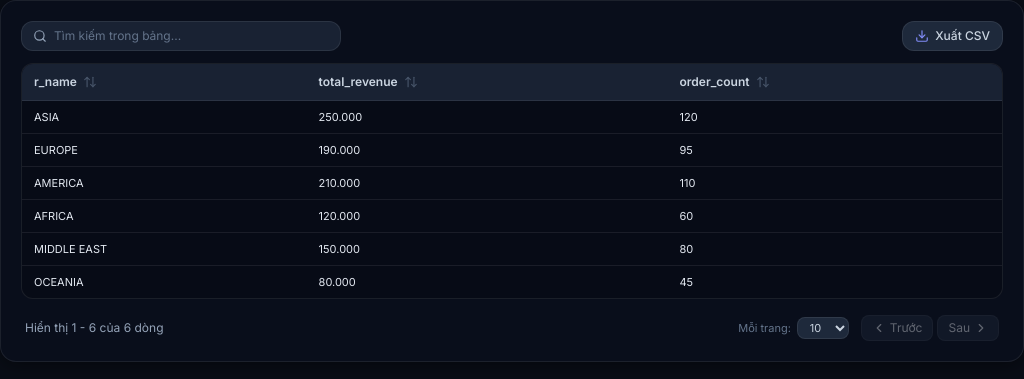
it: Component 4.3: DataTable › 2. Sắp xếp cột khi click vào tiêu đề cột (Sort asc / desc)
The image size is (1024, 379).
Click the button with aria-label "Sắp xếp cột total_revenue". click: (368, 82)
box: [319,74,418,90]
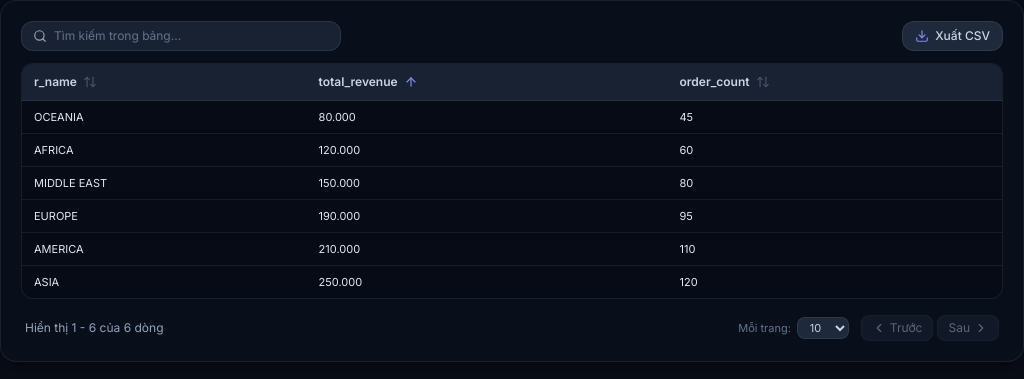
Result: the row "OCEANIA 80.000 45" is shown at [22,100,1002,134]
Click the button with aria-label "Sắp xếp cột total_revenue". click: (368, 82)
box: [319,74,418,90]
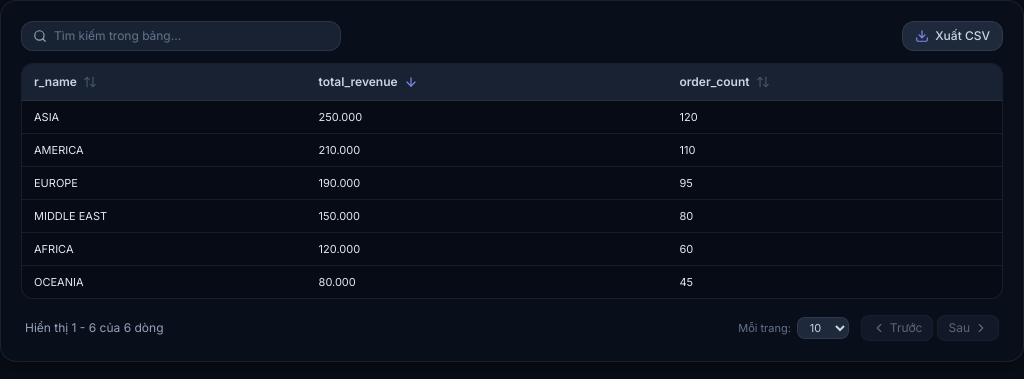
Result: the row "ASIA 250.000 120" is shown at [22,100,1002,134]
